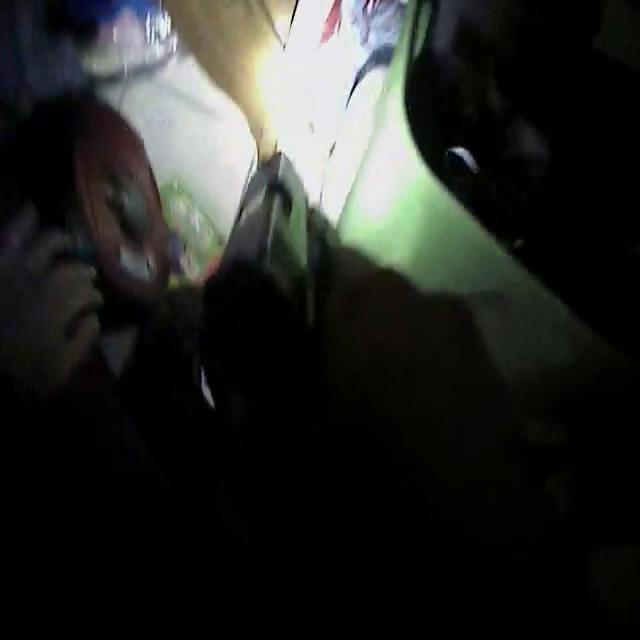gun: (145, 98, 359, 454)
